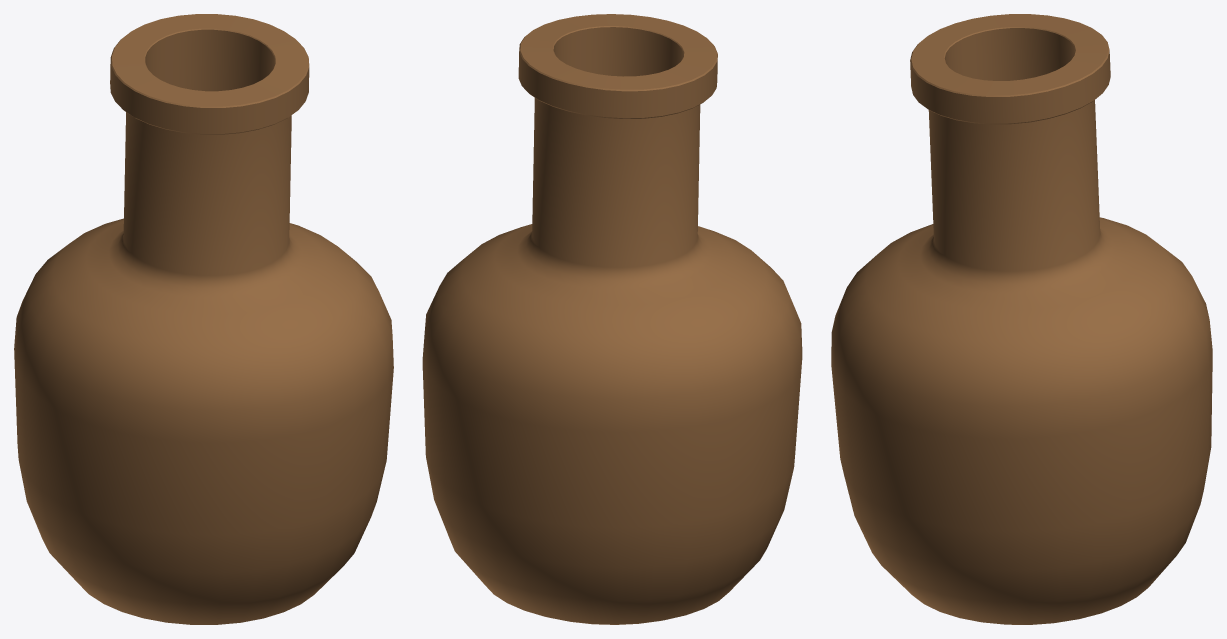
Rendered from Pot1.fbx.
The picture shows the model from 3 angles, left to right: view 1: azimuth 30°, elevation 25°; view 2: azimuth 150°, elevation 25°; view 3: azimuth 270°, elevation 25°; orthographic projection.
Parts seen in each view (by area): view 1: Pot1.001; view 2: Pot1.001; view 3: Pot1.001.
Boxes of the visible parts, bbox=[...] form: Pot1.001: bbox=[14, 14, 393, 624]; Pot1.001: bbox=[422, 14, 802, 624]; Pot1.001: bbox=[831, 14, 1212, 624].
Size of the model in its own units: 44.51 by 68.21 by 44.48.
1 material, 1 textured.
